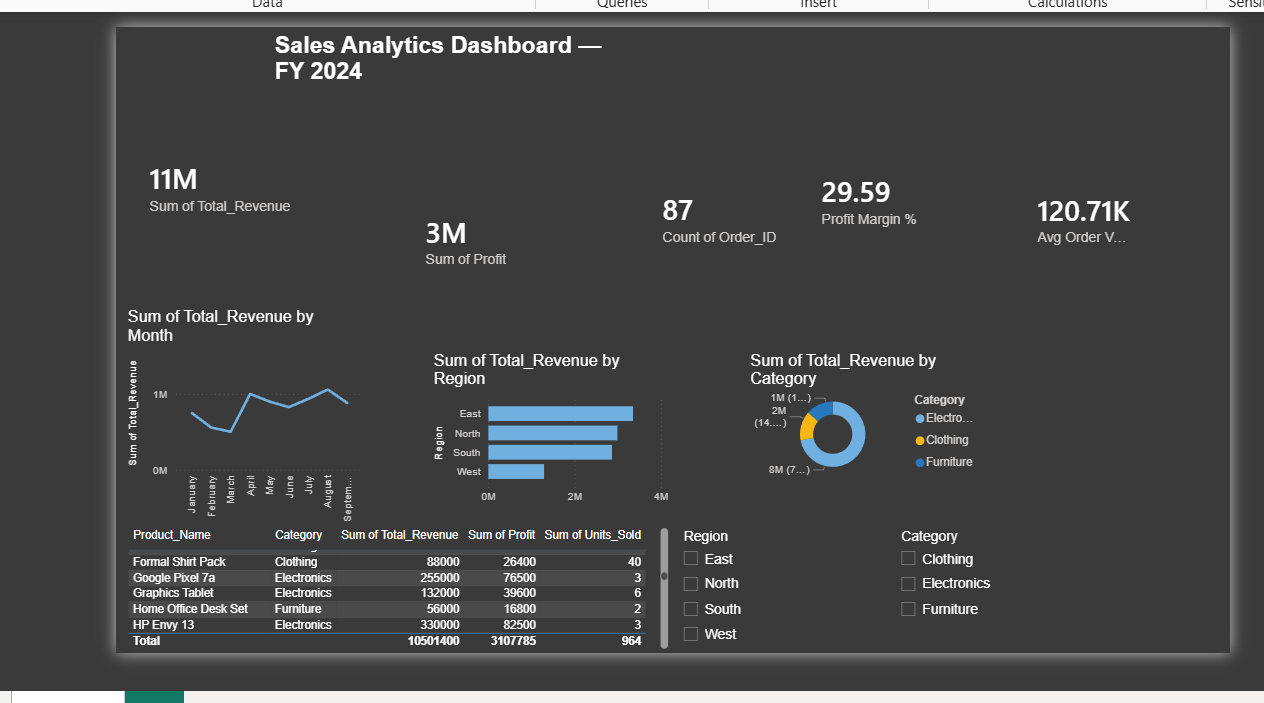

This screenshot's page, from the dashboard's own definition file:
{"tool":"powerbi","page":{"name":"Page 1","canvas":[1280,720],"ordinal":0},"visuals":[{"type":"cardVisual","fields":{"Data":["Sum(sales_data.Total_Revenue)"]},"box":[9.4,43.5,279.7,279.7],"z":0},{"type":"cardVisual","fields":{"Data":["Sum(sales_data.Profit)"]},"box":[325,103.9,279.7,281.6],"z":1},{"type":"cardVisual","fields":{"Data":["CountNonNull(sales_data.Order_ID)"]},"box":[599.1,77.5,279.7,281.6],"z":2},{"type":"lineChart","fields":{"Category":["sales_data.Order_Date.Variation.Date Hierarchy.Month"],"Y":["Sum(sales_data.Total_Revenue)"]},"box":[9.4,323.2,279.7,281.6],"z":3},{"type":"clusteredBarChart","fields":{"Y":["Sum(sales_data.Total_Revenue)"],"Category":["sales_data.Region"]},"box":[360.9,372.3,279.7,183.3],"z":4},{"type":"donutChart","fields":{"Category":["sales_data.Category"],"Y":["Sum(sales_data.Total_Revenue)"]},"box":[723.8,372.3,279.7,149.3],"z":5},{"type":"tableEx","fields":{"Values":["sales_data.Product_Name","sales_data.Category","Sum(sales_data.Total_Revenue)","Sum(sales_data.Profit)","Sum(sales_data.Units_Sold)"]},"box":[9.4,570.7,631.2,149.3],"z":6},{"type":"slicer","fields":{"Values":["sales_data.Region"]},"box":[640,570,199,150],"z":7},{"type":"slicer","fields":{"Values":["sales_data.Category"]},"box":[890,570,280,150],"z":8},{"type":"textbox","box":[177.6,0,421.4,149.3],"z":9},{"type":"cardVisual","fields":{"Data":["sales_data.Profit Margin %"]},"box":[780.5,56.7,279.7,281.6],"z":10},{"type":"cardVisual","fields":{"Data":["sales_data.Avg Order Value"]},"box":[1029.9,143.6,166.3,151.2],"z":11}]}

Visuals, with their boxes on the page's 1280x720 design canvas (x1, y1, x2, y2). These are canvas units, not pixel positions in the 1264x703 screenshot, which may show the page scaled, cropped or inside an application window:
cardVisual - Sum(sales_data.Total_Revenue): Rect(9, 44, 289, 323)
cardVisual - Sum(sales_data.Profit): Rect(325, 104, 605, 386)
cardVisual - CountNonNull(sales_data.Order_ID): Rect(599, 78, 879, 359)
lineChart - sales_data.Order_Date.Variation.Date Hierarchy.Month x Sum(sales_data.Total_Revenue): Rect(9, 323, 289, 605)
clusteredBarChart - Sum(sales_data.Total_Revenue) x sales_data.Region: Rect(361, 372, 641, 556)
donutChart - sales_data.Category x Sum(sales_data.Total_Revenue): Rect(724, 372, 1004, 522)
tableEx - sales_data.Product_Name x sales_data.Category: Rect(9, 571, 641, 720)
slicer - sales_data.Region: Rect(640, 570, 839, 720)
slicer - sales_data.Category: Rect(890, 570, 1170, 720)
textbox: Rect(178, 0, 599, 149)
cardVisual - sales_data.Profit Margin %: Rect(780, 57, 1060, 338)
cardVisual - sales_data.Avg Order Value: Rect(1030, 144, 1196, 295)
